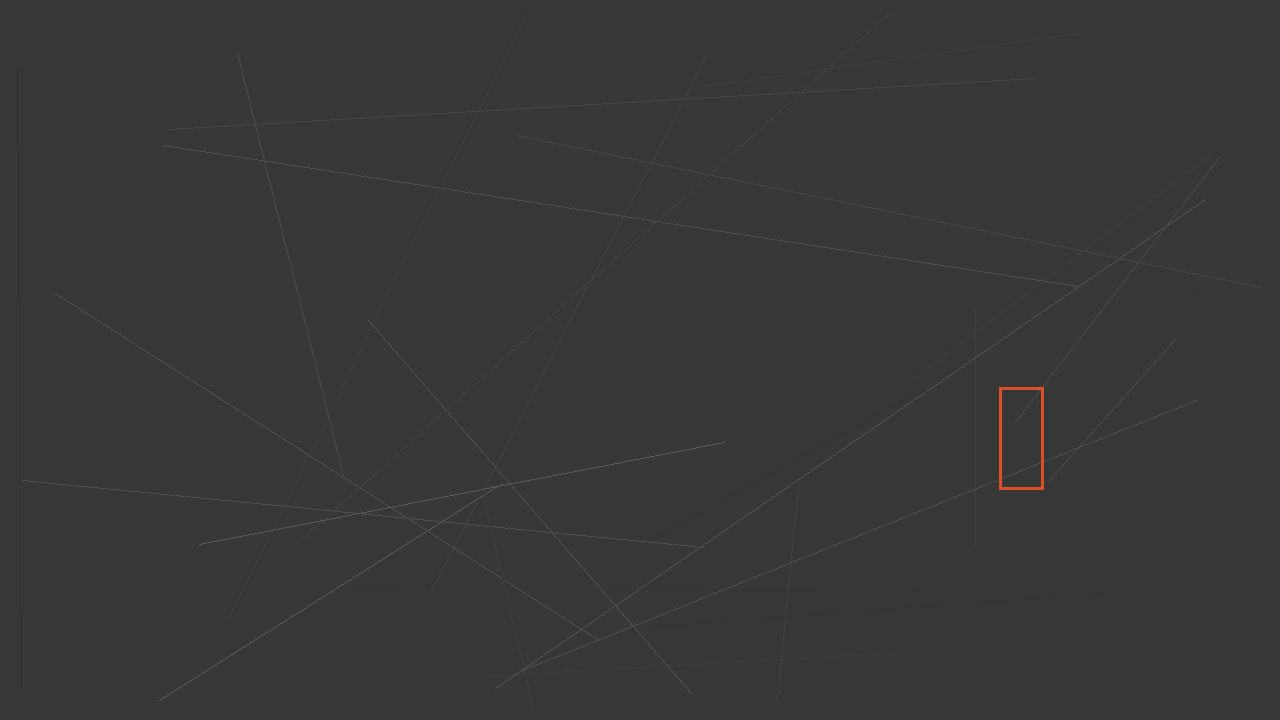D20: (999, 387, 1043, 489)
